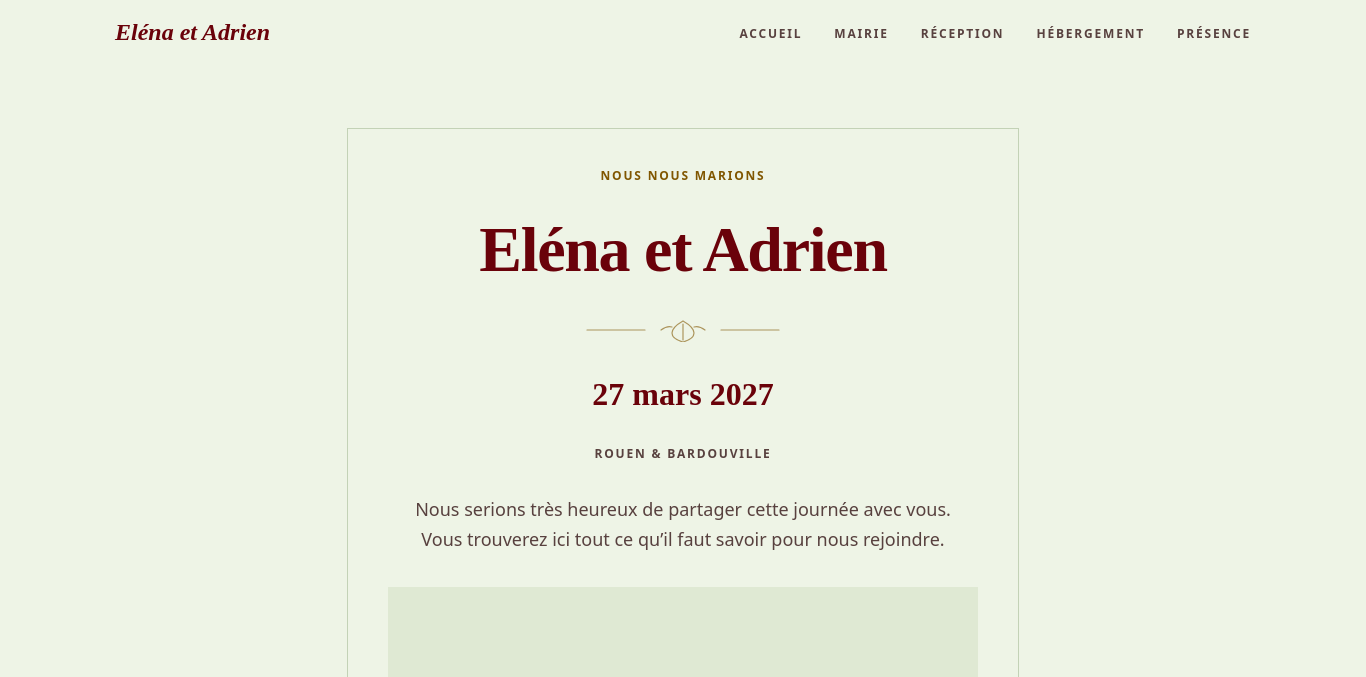
Scenario: App › walks the visitor from the home page to the confirmation page
Click the link "Présence" at (1214,34), box [1177,25,1251,42]
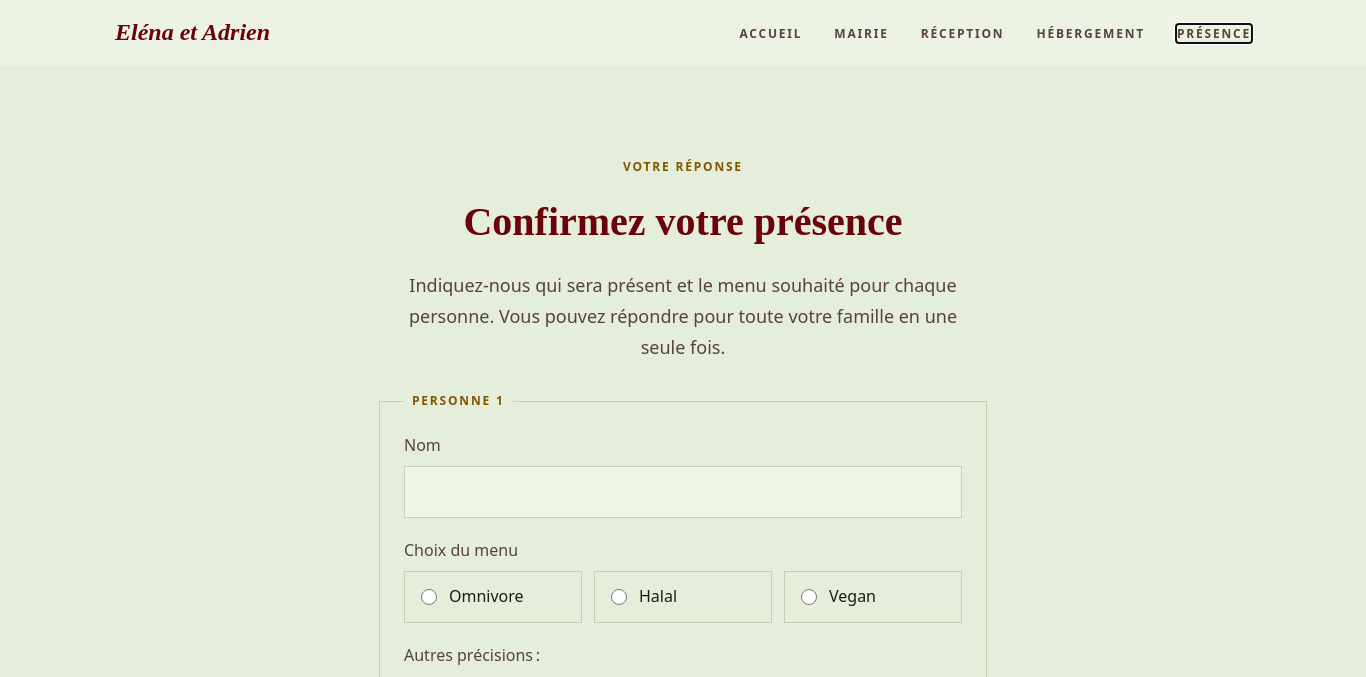
Check: the heading "Confirmez votre présence" is shown, box [464,198,903,246]
